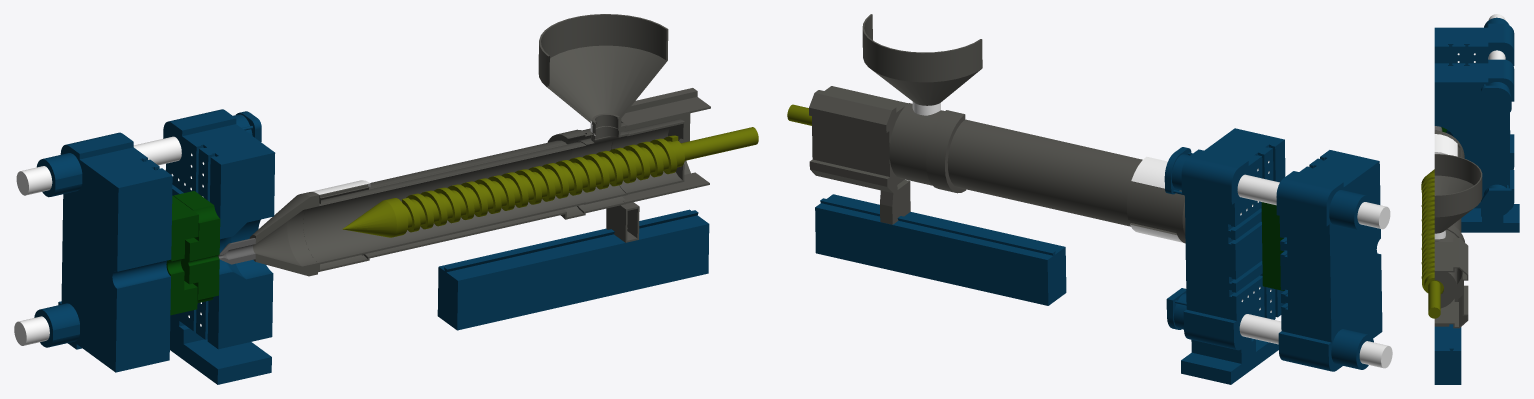
File: injection02rev.glb
3 renders of one model, left to right at view 1: azimuth 30°, elevation 25°; view 2: azimuth 150°, elevation 25°; view 3: azimuth 270°, elevation 25°, orthographic. The views are drawn at different scales.
Parts seen in each view (by area): view 1: 3DGeom-467, 3DGeom-302, 3DGeom-159, Body_1.003, Body_1.004, Body_1.006, Body_2.001, Body_1.005, Body_2, Body_3, Body_1.002, Body_1.007; view 2: 3DGeom-467, 3DGeom-159, 3DGeom-302, Body_1.003, Body_3, Body_2, Body_1.006, 3DGeom-466; view 3: 3DGeom-159, 3DGeom-467, 3DGeom-302, Body_1.004, Body_1.003, 3DGeom-466, Body_2, Body_1.002.
Part boxes in pixels (x1,y1,x2,y2): 3DGeom-467: (303,14,710,271); 3DGeom-302: (34,132,172,372); 3DGeom-159: (163,109,275,384); Body_1.003: (437,209,709,330); Body_1.004: (342,127,758,237); Body_1.006: (173,191,220,302); Body_2.001: (249,194,310,276); Body_1.005: (166,195,198,315); Body_2: (16,136,181,195); Body_3: (14,316,49,345); Body_1.002: (294,192,319,276); Body_1.007: (218,238,255,264); 3DGeom-467: (809,14,1177,234); 3DGeom-159: (1164,128,1285,384); 3DGeom-302: (1276,150,1382,371); Body_1.003: (815,194,1066,305); Body_3: (1239,314,1392,368); Body_2: (1237,174,1390,229); Body_1.006: (1261,202,1283,290); 3DGeom-466: (1130,156,1183,242); 3DGeom-159: (1434,59,1519,232); 3DGeom-467: (1434,146,1482,328); 3DGeom-302: (1434,17,1514,169); Body_1.004: (1421,169,1443,318); Body_1.003: (1434,324,1461,384); 3DGeom-466: (1434,134,1457,156); Body_2: (1488,14,1505,59); Body_1.002: (1434,130,1464,157).
Bounding box in the file's own units: 2.29 × 0.8156 × 0.4105.
